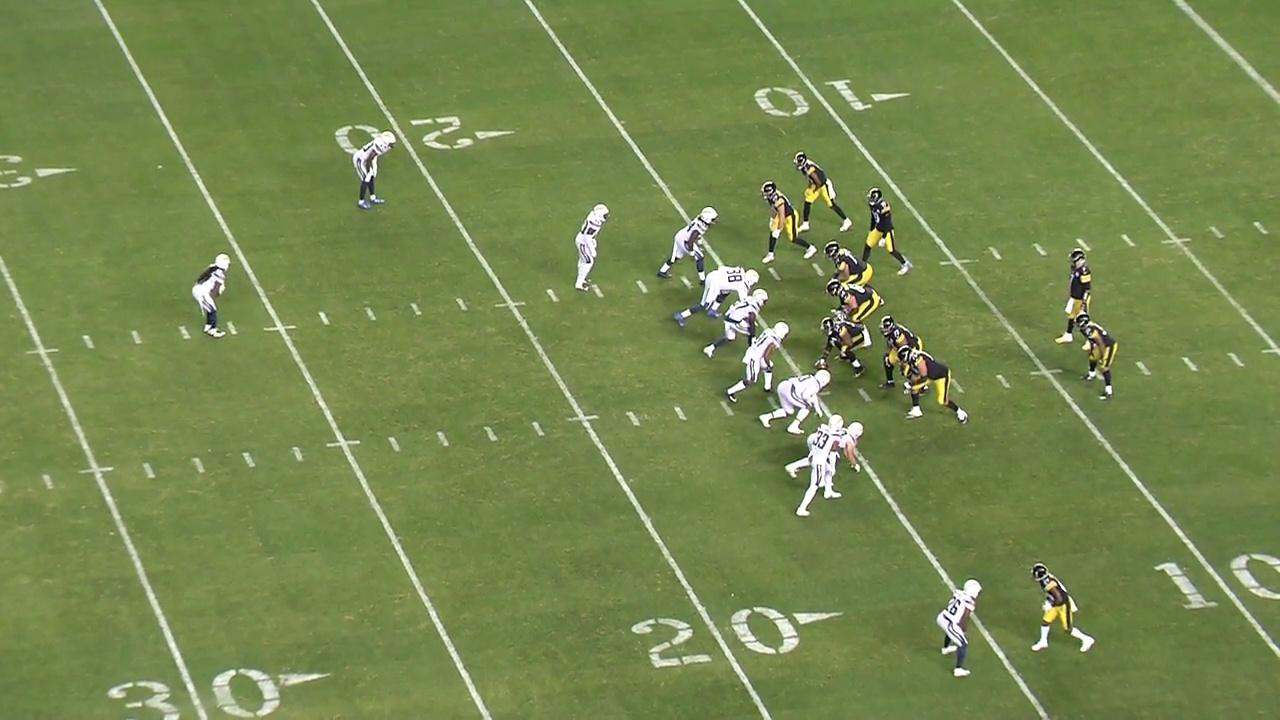defense: (721, 319, 793, 405), (671, 263, 762, 330), (792, 410, 846, 521), (653, 203, 722, 289), (785, 418, 868, 486), (934, 575, 987, 679), (756, 366, 833, 435), (700, 288, 770, 362), (188, 252, 234, 341), (351, 127, 398, 212), (571, 199, 612, 294)
oline: (896, 343, 970, 425), (823, 238, 887, 318), (823, 275, 887, 351), (877, 314, 928, 398), (811, 314, 871, 381)
qb: (1052, 244, 1097, 353)
skill: (1025, 560, 1096, 655), (790, 148, 855, 236), (757, 177, 820, 266), (860, 186, 914, 277), (1072, 309, 1119, 404)
